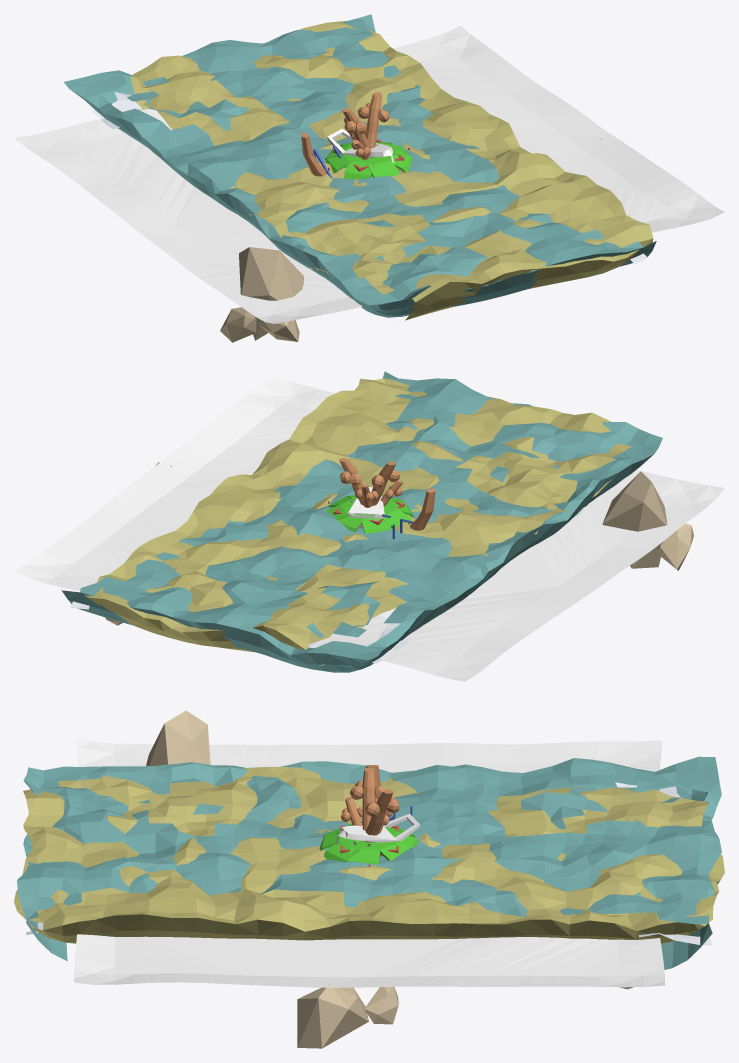
The model's file is beach-kit-lowpoly.glb.
The picture shows the model from 3 angles, top to bottom: view 1: azimuth 30°, elevation 25°; view 2: azimuth 150°, elevation 25°; view 3: azimuth 270°, elevation 25°; orthographic projection. The views are drawn at different scales.
Parts seen in each view (by area): view 1: LightBlue-material, Sand-material, Plane_007, R1-material, Green-material (×2), Brown-material (×2), W2-material, White-material; view 2: LightBlue-material, Sand-material, Plane_007, R1-material, Green-material (×2), Brown-material (×3), W2-material, White-material; view 3: LightBlue-material, Sand-material, Plane_007, R1-material, Green-material (×2), Brown-material (×2), White-material, W2-material.
Part boxes in pixels (x1,y1,x2,y2): LightBlue-material: (64, 14, 656, 317); Sand-material: (130, 21, 653, 320); Plane_007: (14, 25, 724, 323); R1-material: (220, 138, 623, 342); Green-material (×2): (325, 142, 412, 179); Brown-material (×2): (342, 92, 389, 157); W2-material: (91, 92, 647, 268); White-material: (327, 129, 394, 162); LightBlue-material: (61, 371, 662, 672); Sand-material: (84, 378, 631, 652); Plane_007: (14, 374, 724, 681); R1-material: (105, 462, 693, 625); Green-material (×2): (326, 494, 414, 533); Brown-material (×3): (339, 458, 435, 530); W2-material: (70, 507, 584, 665); White-material: (348, 487, 384, 518); LightBlue-material: (17, 756, 721, 969); Sand-material: (14, 767, 724, 943); Plane_007: (74, 737, 665, 987); R1-material: (146, 710, 633, 1048); Green-material (×2): (319, 822, 418, 864); Brown-material (×2): (350, 767, 399, 842); White-material: (335, 813, 419, 844); W2-material: (26, 782, 712, 945).
Bounding box in the file's own units: 3596395 × 1056120 × 4112697.
